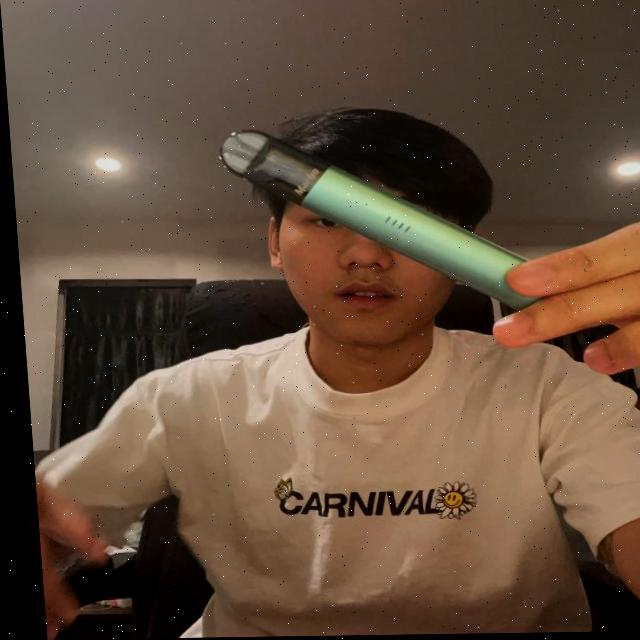vape: (217, 126, 537, 314)
